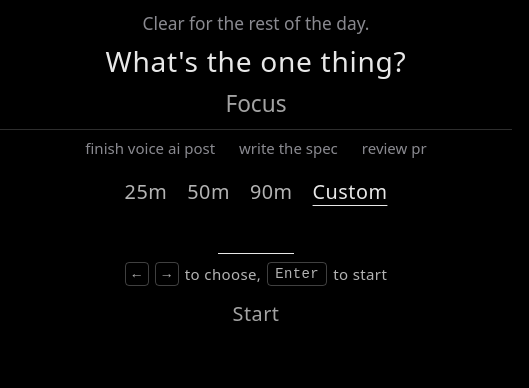
it: game-menu rows › accepts a typed custom length
The image size is (529, 388).
Type "40" into the field with test id "custom-minutes" at point(256, 239), box [218,224,294,254]
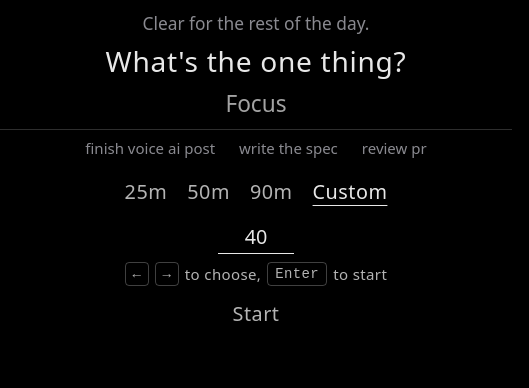
Replace the text in the field with test id "custom-minutes" with "181" at point(256, 239), box [218,224,294,254]
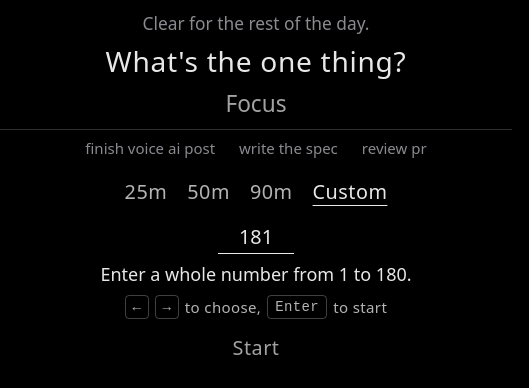
Expected: the text with test id "custom-minutes-error" reads "Enter a whole number from 1 to 180.", [100,262,412,286]
Expected: the button with test id "focus-start" is disabled, [228,327,283,371]
